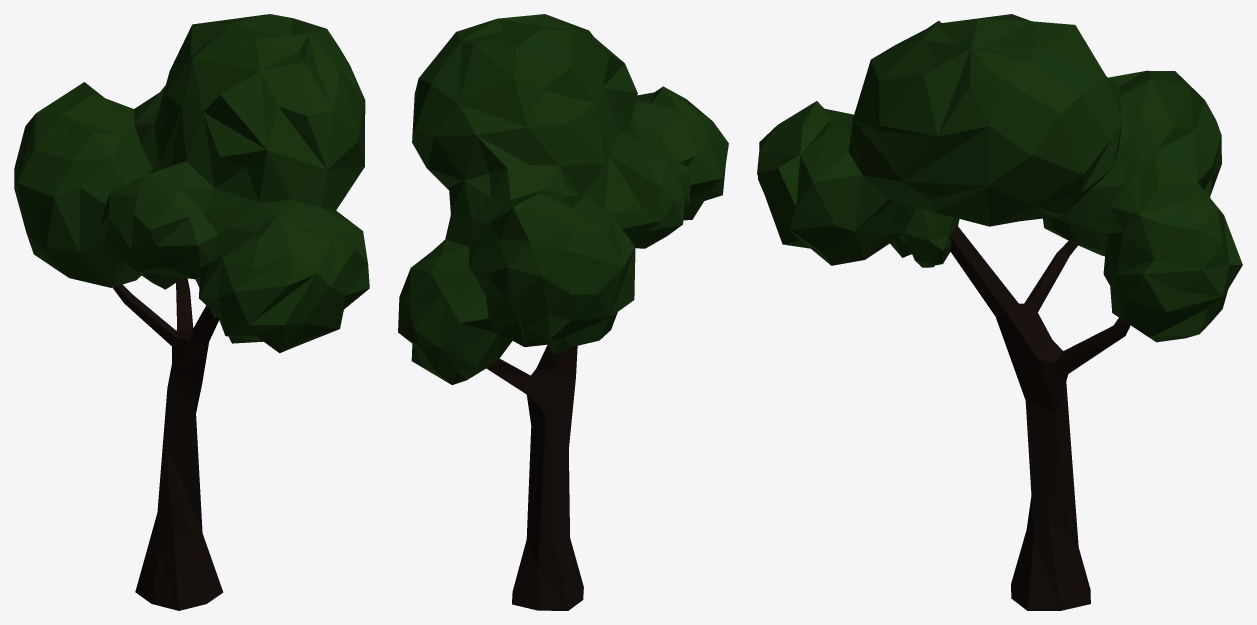
File: Mesh_tree01.fbx
3 views of the same model, side by side, from view 1: azimuth 30°, elevation 25°; view 2: azimuth 150°, elevation 25°; view 3: azimuth 270°, elevation 25° (orthographic). The views are drawn at different scales.
Parts seen in each view (by area): view 1: Meah_tree01; view 2: Meah_tree01; view 3: Meah_tree01.
Boxes of the visible parts, x1,y1,x2,y2 form: Meah_tree01: [14, 14, 369, 610]; Meah_tree01: [398, 14, 728, 610]; Meah_tree01: [757, 14, 1242, 610].
Bounding box in the file's own units: 281 × 560 × 413.
